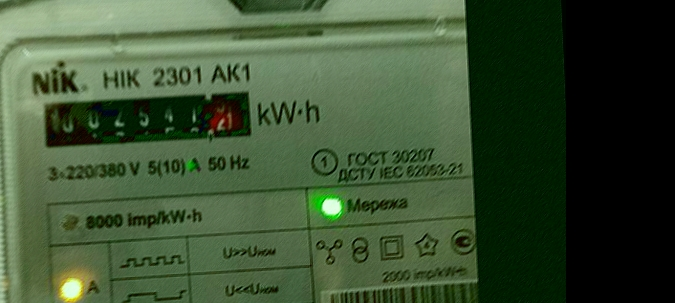0: (56, 108, 75, 134), (84, 104, 99, 131)
1: (184, 97, 198, 125)
2: (108, 102, 125, 128)
4: (160, 99, 174, 123)
5: (133, 100, 152, 129)
6: (212, 113, 227, 131)
screen: (29, 77, 265, 159)
